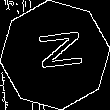N_W: (27, 32, 83, 78)
